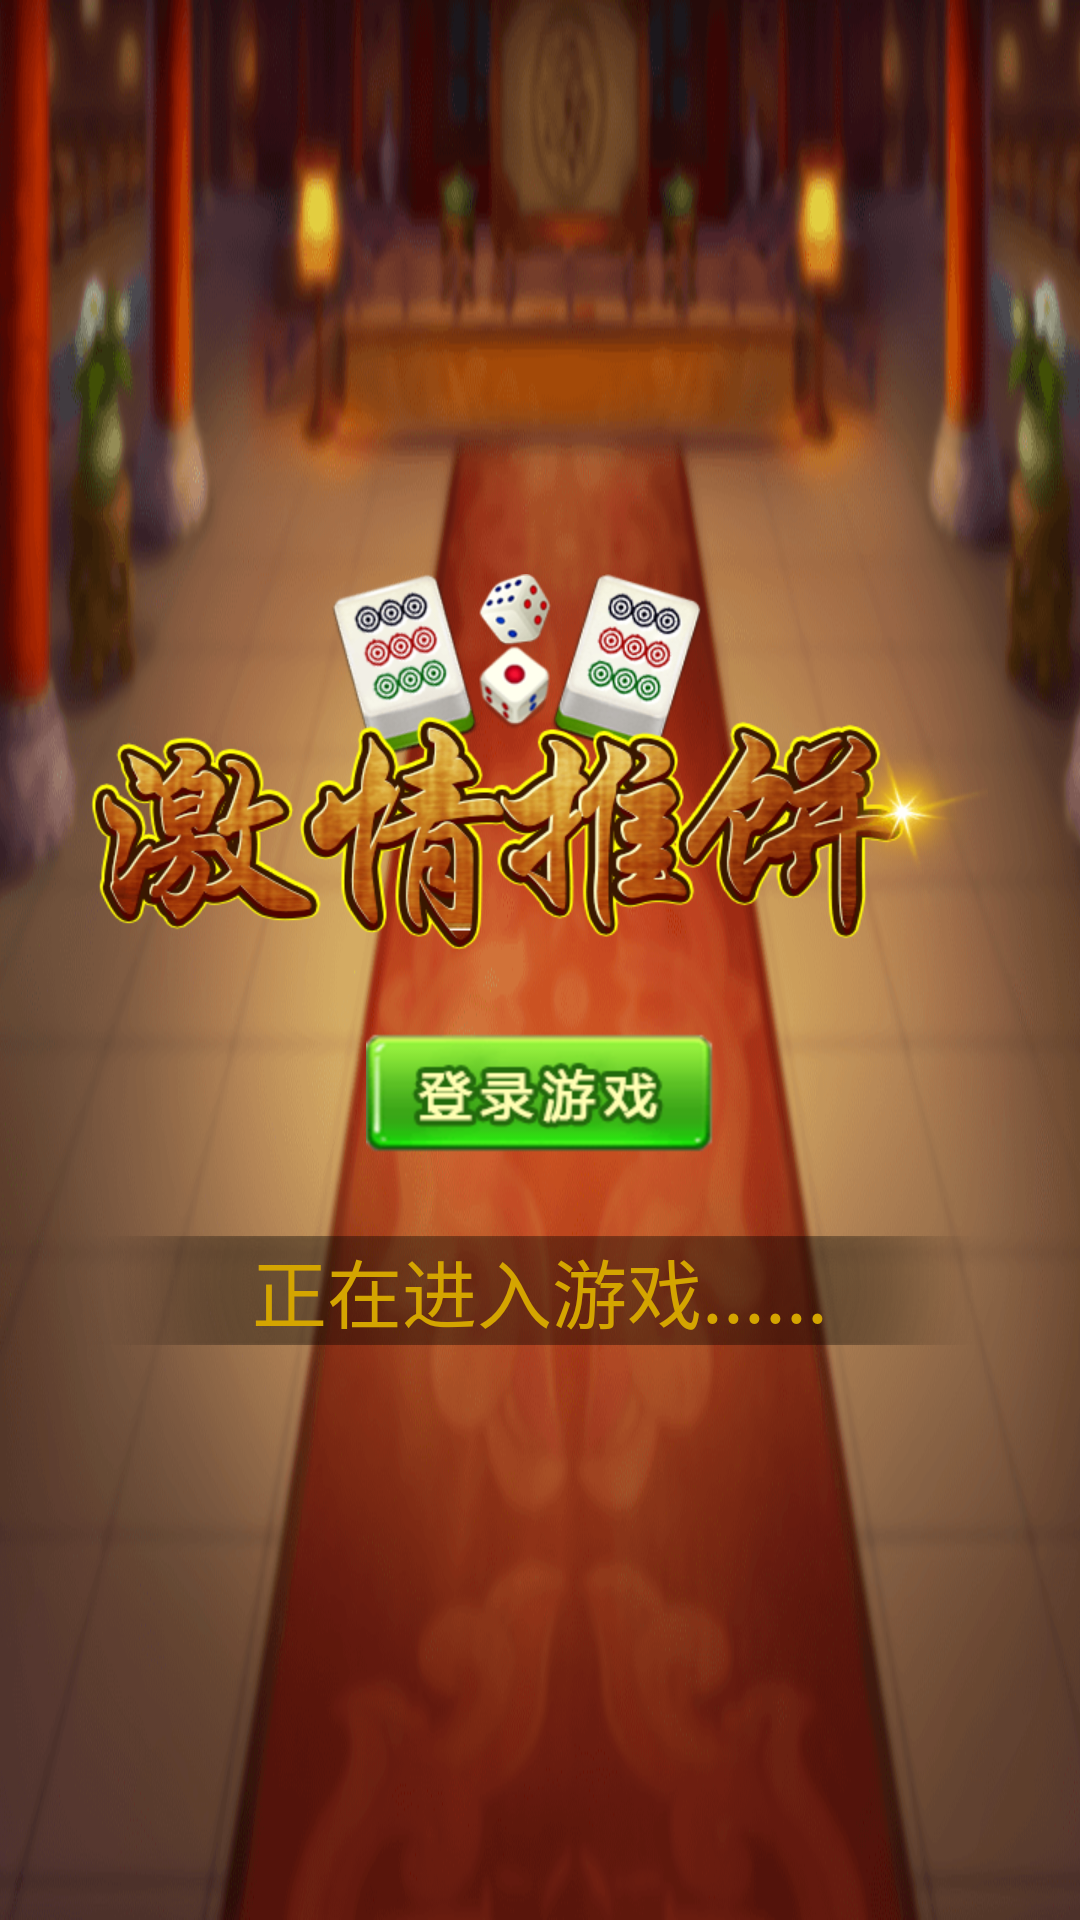

Point at icon controls on the screen. Image size 1080 x 1920, points as point (x, y).
chess left: point (404, 667)
chess right: point (627, 667)
dice bottom: point (514, 687)
dice top: point (514, 609)
